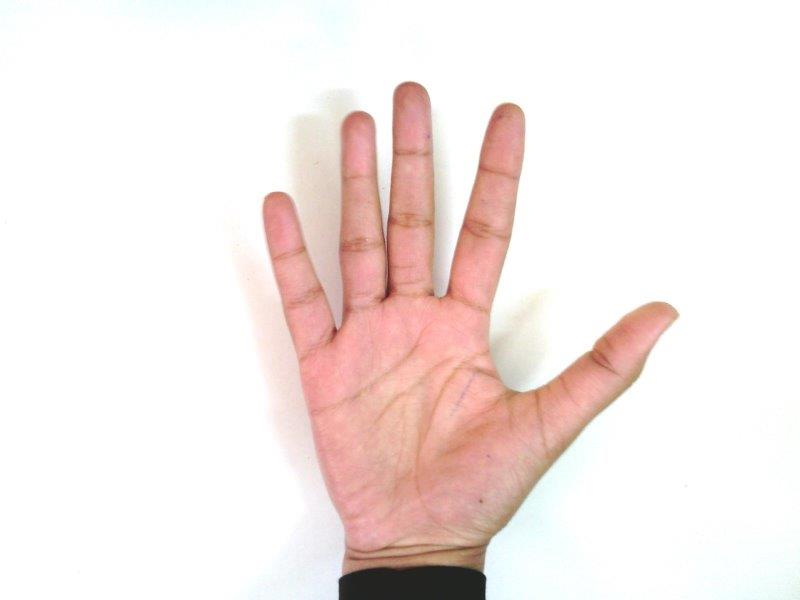hand: (262, 81, 679, 539)
